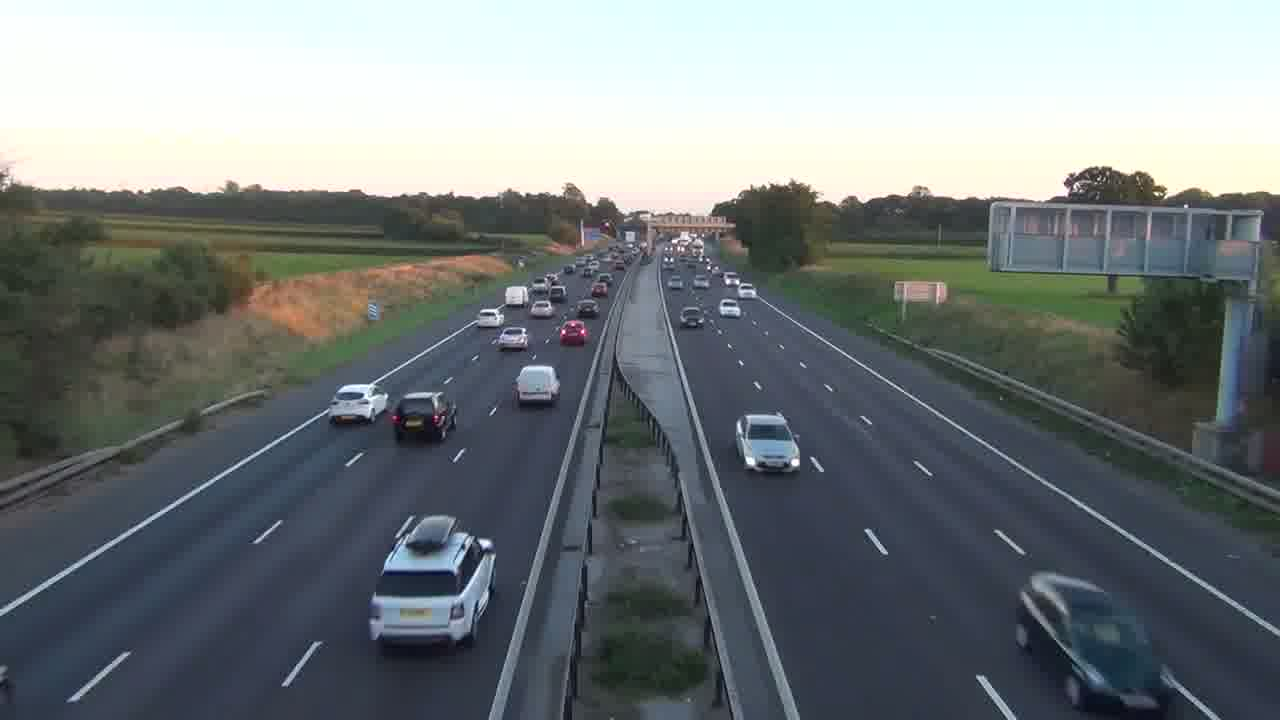car: (368, 512, 498, 651), (391, 390, 456, 444), (327, 382, 389, 425), (513, 363, 561, 407), (494, 326, 529, 351), (559, 319, 589, 347), (679, 306, 705, 328), (478, 306, 505, 327)
truck: (1015, 571, 1167, 712), (368, 512, 498, 651)
